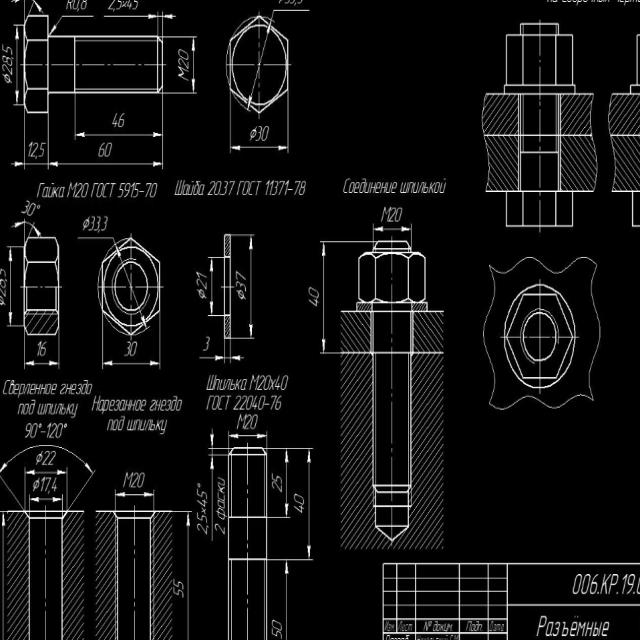marking_line: (245, 30, 271, 108), (318, 240, 330, 358), (50, 158, 161, 170), (51, 14, 96, 35), (185, 511, 192, 638), (76, 132, 162, 142), (209, 432, 215, 547), (6, 246, 14, 326), (283, 560, 291, 640), (13, 28, 21, 107), (195, 355, 248, 366), (307, 449, 312, 562), (250, 231, 255, 339), (2, 511, 6, 640), (283, 448, 290, 517), (103, 361, 161, 369), (13, 222, 43, 237), (373, 225, 418, 235), (232, 145, 288, 153), (26, 361, 62, 373), (190, 38, 198, 89), (150, 8, 177, 21), (105, 12, 160, 18), (32, 494, 62, 505), (229, 433, 271, 440), (31, 0, 46, 13), (10, 158, 24, 169)
numeric: (233, 392, 268, 412), (197, 492, 211, 536), (121, 472, 151, 492), (20, 196, 41, 219), (109, 111, 129, 132), (90, 215, 110, 236), (41, 475, 59, 498), (1, 41, 13, 75), (96, 139, 116, 159), (28, 139, 47, 160), (107, 0, 143, 11), (307, 282, 320, 310), (292, 492, 307, 516), (269, 392, 286, 412), (178, 46, 192, 70), (270, 473, 285, 495), (270, 618, 284, 640), (257, 123, 271, 144), (194, 272, 211, 289), (125, 342, 141, 360), (235, 269, 248, 291), (36, 340, 50, 359), (172, 578, 184, 599), (390, 206, 403, 225), (43, 449, 57, 466), (72, 0, 88, 12)
special_symbol: (196, 285, 210, 302), (247, 123, 258, 143), (80, 213, 91, 232), (234, 290, 250, 303), (34, 451, 45, 468), (2, 74, 13, 89), (31, 479, 42, 493), (196, 481, 201, 491)
